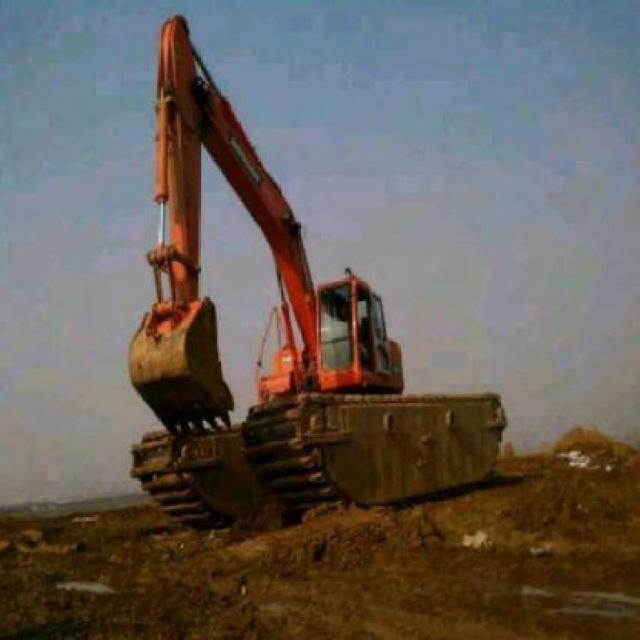Excavator: (106, 4, 512, 527)
